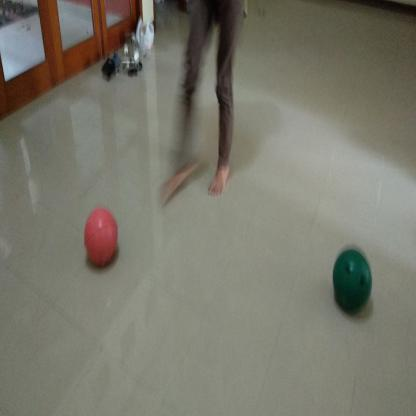green_buoy: (330, 242, 377, 324)
red_buoy: (82, 206, 119, 272)
